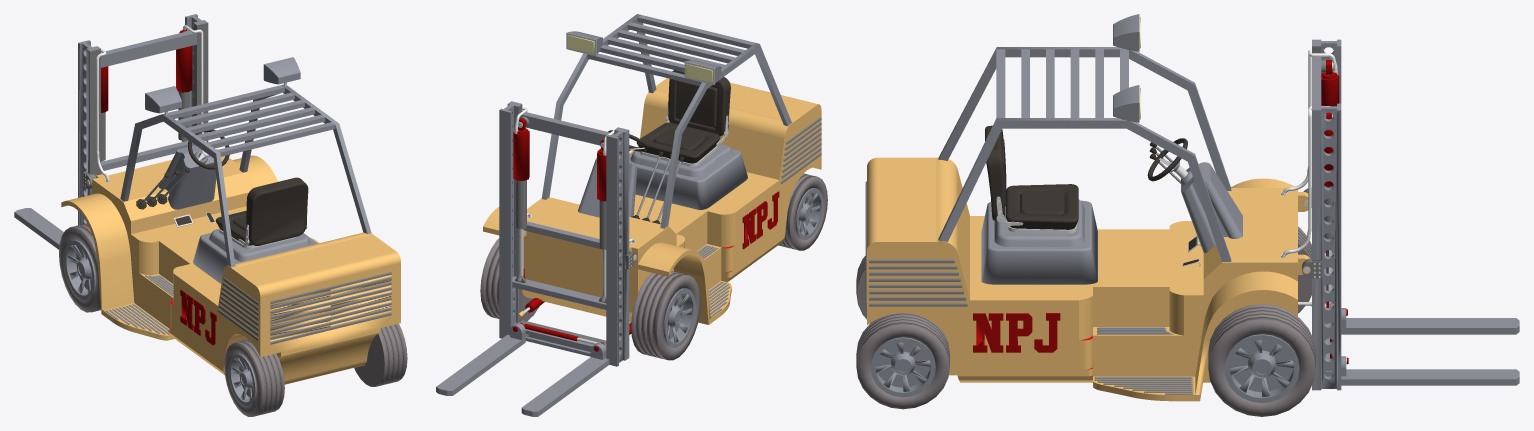
The model's file is forklift.fbx.
3 views of the same model, side by side, from view 1: azimuth 30°, elevation 25°; view 2: azimuth 150°, elevation 25°; view 3: azimuth 270°, elevation 25° (orthographic). The views are drawn at different scales.
Visible parts, largest first — view 1: Forklift; view 2: Forklift; view 3: Forklift.
Part boxes in pixels (<box>): Forklift: <box>14,14,407,416</box>; Forklift: <box>436,14,827,416</box>; Forklift: <box>856,14,1519,416</box>.
Bounding box in the file's own units: 106 × 136 × 266.
